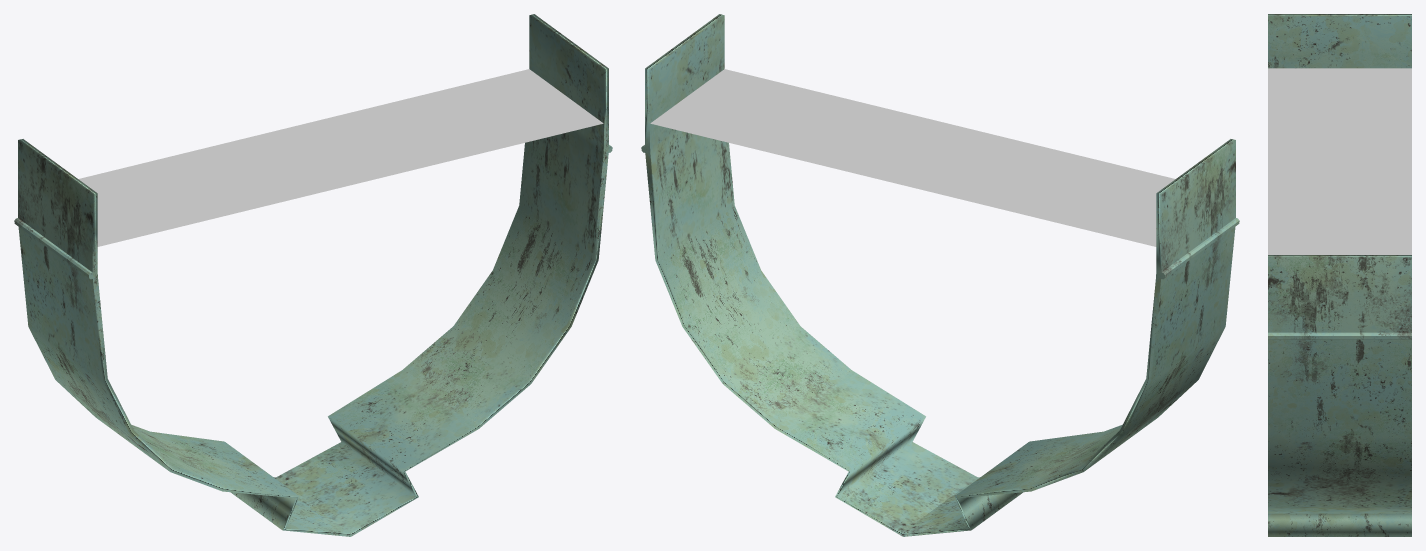
Rendered from boat_G_mid_1.fbx.
3 views of the same model, side by side, from view 1: azimuth 30°, elevation 25°; view 2: azimuth 150°, elevation 25°; view 3: azimuth 270°, elevation 25° (orthographic). The views are drawn at different scales.
Visible parts, largest first — view 1: boat_G_mid_1; view 2: boat_G_mid_1; view 3: boat_G_mid_1.
Part boxes in pixels (x1,y1,x2,y2): boat_G_mid_1: (14, 14, 612, 536); boat_G_mid_1: (641, 14, 1239, 536); boat_G_mid_1: (1268, 14, 1411, 536).
Bounding box in the file's own units: 1014 × 750 × 250.
